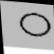no answer: (17, 9, 52, 42)
